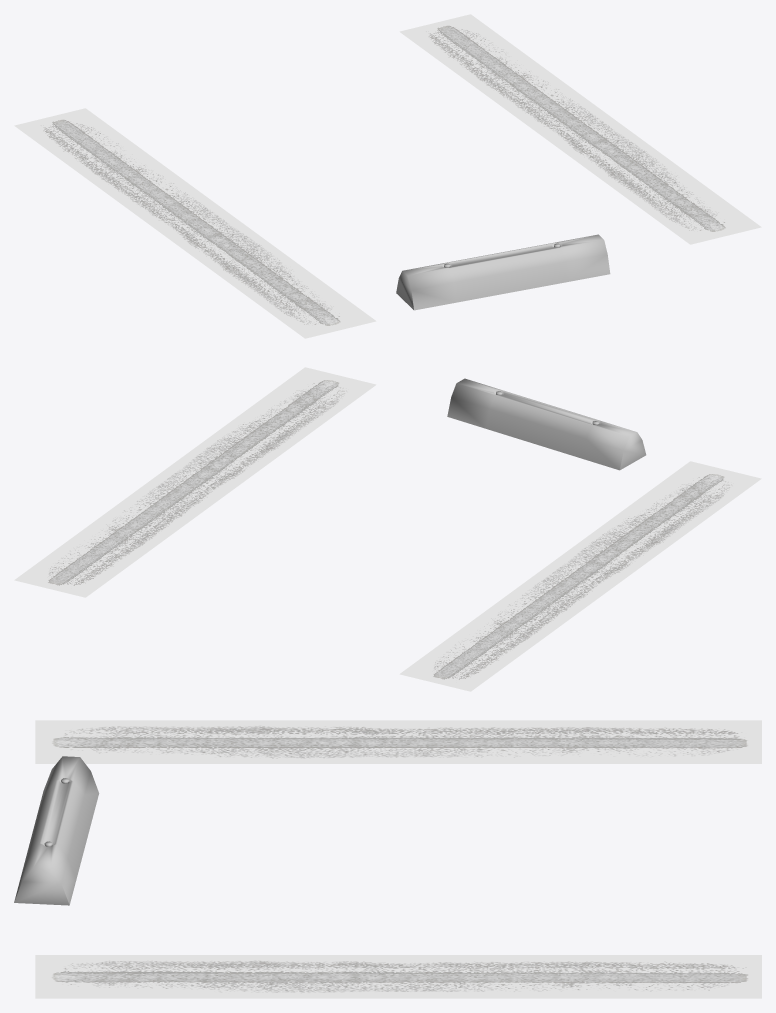
The model's file is Parkingspot.FBX.
3 renders of one model, top to bottom at view 1: azimuth 30°, elevation 25°; view 2: azimuth 150°, elevation 25°; view 3: azimuth 270°, elevation 25°, orthographic. The views are drawn at different scales.
Parts seen in each view (by area): view 1: Plane011, Plane012, parking_ba004; view 2: Plane011, Plane012, parking_ba004; view 3: Plane011, Plane012, parking_ba004.
Part boxes in pixels (x1,y1,x2,y2): Plane011: (399, 14, 761, 244); Plane012: (14, 108, 376, 338); parking_ba004: (396, 234, 610, 310); Plane011: (14, 367, 376, 597); Plane012: (399, 461, 761, 691); parking_ba004: (447, 378, 646, 470); Plane011: (35, 955, 761, 998); Plane012: (35, 720, 761, 763); parking_ba004: (14, 756, 99, 905).
Bounding box in the file's own units: 4.56 × 0.2758 × 5.18.
